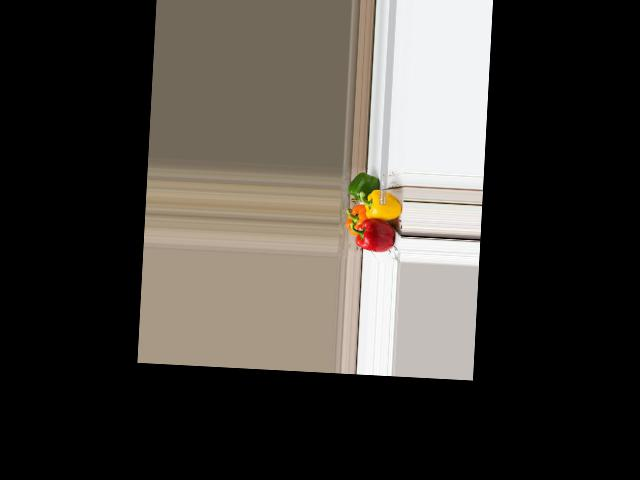bell_pepper: (344, 202, 369, 236)
